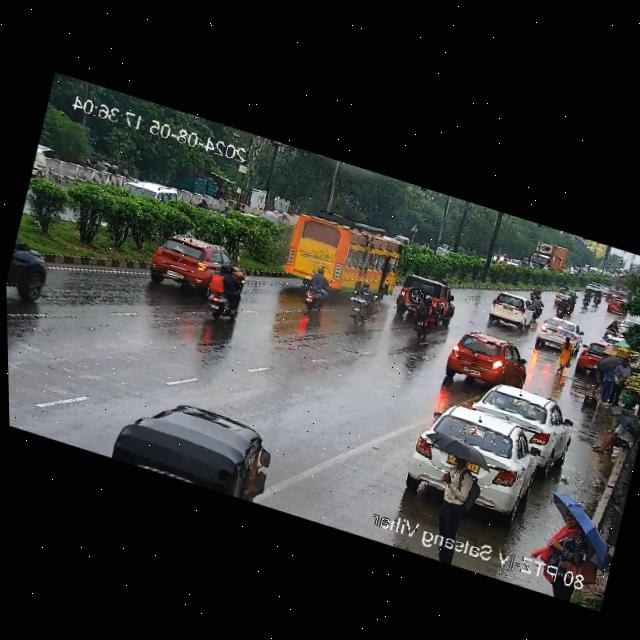bus: (269, 196, 410, 314)
car: (104, 380, 277, 505), (422, 400, 546, 499), (468, 374, 578, 460), (442, 324, 536, 402), (141, 225, 232, 304), (5, 222, 64, 310), (530, 312, 585, 359), (483, 287, 535, 332), (29, 138, 57, 186), (603, 296, 628, 318), (552, 282, 570, 302)
motorcycle: (391, 267, 457, 344), (198, 249, 251, 324), (292, 264, 332, 313), (344, 278, 377, 330), (576, 278, 606, 314), (555, 295, 579, 324), (600, 315, 621, 341), (527, 283, 547, 301)
person: (428, 453, 490, 544), (535, 506, 600, 577), (591, 407, 639, 465), (597, 362, 622, 406), (609, 356, 633, 401), (555, 333, 577, 376), (591, 365, 607, 398)
